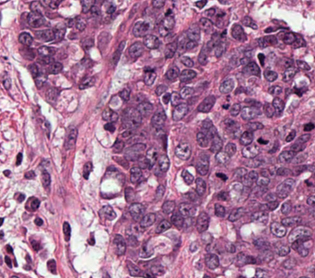nucleus: (122, 109, 141, 129), (288, 226, 311, 242), (276, 178, 294, 198), (124, 143, 145, 160), (111, 41, 124, 65), (197, 95, 215, 112), (205, 32, 221, 51), (151, 110, 165, 129), (64, 127, 76, 149), (27, 12, 44, 27), (172, 103, 187, 120), (175, 142, 190, 159), (241, 171, 258, 186), (178, 202, 195, 217), (129, 203, 144, 220), (196, 154, 208, 175), (113, 234, 125, 255), (240, 106, 259, 119), (132, 21, 148, 36), (98, 31, 110, 51), (242, 143, 258, 158), (196, 212, 208, 232), (128, 42, 143, 57), (137, 101, 152, 116), (270, 222, 285, 237), (231, 24, 245, 40), (144, 34, 160, 48), (228, 207, 244, 221), (251, 210, 267, 224), (242, 62, 259, 75), (145, 148, 157, 166), (219, 78, 233, 93), (102, 108, 117, 122), (100, 205, 115, 219), (140, 213, 155, 227), (257, 36, 276, 47), (36, 29, 53, 41), (278, 31, 295, 43), (210, 135, 222, 152), (157, 155, 169, 172), (166, 65, 179, 80), (241, 16, 257, 28), (164, 42, 176, 58), (179, 69, 195, 81), (79, 76, 95, 88), (272, 97, 284, 113), (196, 131, 208, 147), (278, 150, 294, 162), (253, 238, 269, 250), (281, 216, 300, 226), (130, 166, 141, 183), (161, 16, 174, 30), (199, 17, 212, 31), (283, 67, 296, 81), (156, 220, 170, 233), (215, 39, 225, 57), (37, 46, 55, 56), (47, 61, 62, 73), (143, 70, 155, 85), (46, 87, 58, 102), (171, 212, 183, 227), (26, 197, 39, 210), (187, 27, 199, 41), (240, 131, 252, 145), (224, 142, 236, 156), (215, 151, 229, 163), (162, 200, 174, 214), (35, 72, 46, 87), (113, 157, 128, 168), (251, 186, 266, 197), (196, 177, 205, 195), (81, 0, 94, 12), (81, 37, 93, 50), (264, 69, 277, 81), (138, 155, 150, 168), (201, 119, 212, 133), (290, 142, 304, 153), (182, 170, 193, 184), (246, 122, 263, 131), (42, 170, 50, 189), (198, 48, 207, 64), (83, 162, 92, 178), (234, 167, 246, 179), (230, 182, 242, 194), (75, 17, 86, 30), (180, 56, 193, 67), (28, 64, 39, 77), (206, 126, 217, 139), (179, 87, 193, 97), (264, 103, 274, 117), (264, 200, 278, 210), (43, 0, 60, 8), (155, 185, 164, 200), (125, 187, 134, 202), (63, 222, 70, 241), (104, 1, 115, 13), (53, 28, 64, 40), (112, 140, 123, 152), (214, 204, 225, 216), (268, 85, 281, 95), (170, 92, 180, 105), (256, 176, 269, 186), (281, 201, 291, 214), (293, 36, 304, 47), (119, 88, 129, 100), (230, 103, 240, 115), (276, 167, 291, 175), (296, 60, 309, 69), (39, 57, 53, 65), (42, 120, 49, 136), (155, 85, 166, 95), (127, 235, 137, 246), (297, 134, 309, 143), (217, 191, 229, 200), (282, 58, 292, 68), (90, 5, 99, 16), (159, 25, 168, 36), (185, 40, 196, 49), (286, 130, 295, 141), (186, 191, 197, 200), (152, 0, 164, 8), (122, 129, 134, 137), (263, 193, 275, 201), (31, 2, 40, 12), (202, 233, 211, 243), (195, 0, 206, 8), (204, 8, 215, 16), (294, 155, 305, 163), (31, 239, 39, 250), (307, 194, 314, 206), (162, 93, 170, 103), (104, 123, 114, 131), (216, 173, 226, 180), (82, 59, 91, 66), (304, 123, 313, 130), (66, 19, 74, 26), (35, 217, 42, 225), (261, 169, 268, 176), (258, 54, 263, 63), (258, 138, 267, 143), (88, 238, 93, 244)
